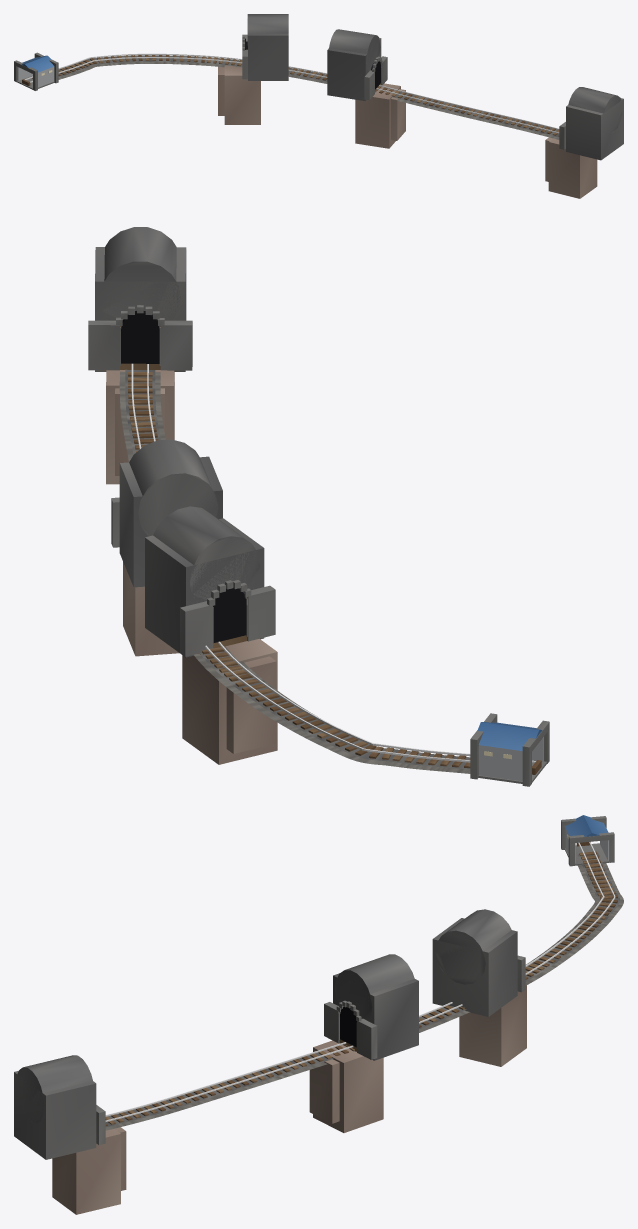
Rendered from Rail_P1.fbx.
3 renders of one model, top to bottom at view 1: azimuth 30°, elevation 25°; view 2: azimuth 150°, elevation 25°; view 3: azimuth 270°, elevation 25°, orthographic. The views are drawn at different scales.
Visible parts, largest first — view 1: Rail.PortalIn0, Rail.Portal, Rail.PortalOut0, Rail.Sleepers, Rail.Bed, Rail.Shed, Rail.Ballast, Rail.Rail, Rail.Rail.001; view 2: Rail.PortalOut0, Rail.Portal, Rail.PortalIn0, Rail.Sleepers, Rail.Shed, Rail.Bed, Rail.Ballast, Rail.Rail, Rail.Rail.001; view 3: Rail.PortalIn0, Rail.Portal, Rail.PortalOut0, Rail.Sleepers, Rail.Bed, Rail.Ballast, Rail.Shed, Rail.Rail, Rail.Rail.001.
Boxes of the visible parts, x1=… form: Rail.PortalIn0: x1=327, y1=29, x2=405, y2=148; Rail.Portal: x1=545, y1=87, x2=623, y2=198; Rail.PortalOut0: x1=218, y1=14, x2=288, y2=124; Rail.Sleepers: x1=32, y1=55, x2=559, y2=136; Rail.Bed: x1=31, y1=55, x2=559, y2=137; Rail.Shed: x1=14, y1=52, x2=58, y2=90; Rail.Ballast: x1=58, y1=55, x2=559, y2=139; Rail.Rail: x1=25, y1=53, x2=559, y2=129; Rail.Rail.001: x1=30, y1=57, x2=559, y2=133; Rail.PortalOut0: x1=145, y1=506, x2=277, y2=764; Rail.Portal: x1=88, y1=227, x2=192, y2=484; Rail.PortalIn0: x1=111, y1=439, x2=222, y2=656; Rail.Sleepers: x1=128, y1=372, x2=470, y2=768; Rail.Shed: x1=470, y1=713, x2=549, y2=786; Rail.Bed: x1=125, y1=369, x2=470, y2=769; Rail.Ballast: x1=119, y1=371, x2=470, y2=773; Rail.Rail: x1=131, y1=363, x2=470, y2=762; Rail.Rail.001: x1=147, y1=364, x2=535, y2=763; Rail.PortalIn0: x1=309, y1=954, x2=418, y2=1132; Rail.Portal: x1=14, y1=1055, x2=126, y2=1214; Rail.PortalOut0: x1=432, y1=909, x2=526, y2=1066; Rail.Sleepers: x1=105, y1=851, x2=617, y2=1126; Rail.Bed: x1=105, y1=852, x2=619, y2=1127; Rail.Ballast: x1=105, y1=863, x2=623, y2=1130; Rail.Shed: x1=561, y1=815, x2=614, y2=866; Rail.Rail: x1=105, y1=842, x2=615, y2=1121; Rail.Rail.001: x1=105, y1=842, x2=604, y2=1116.
Bounding box in the file's own units: 21067 × 5553 × 18893.
